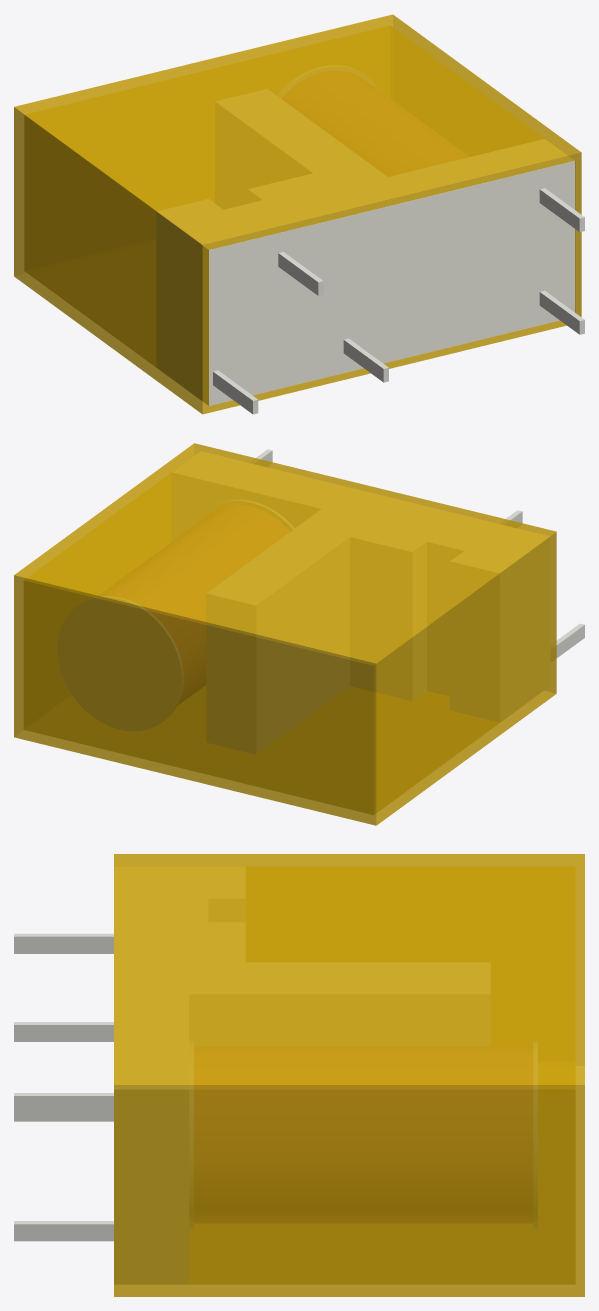
Rendered from Relay_SPDT_Finder_40.51.glb.
3 renders of one model, top to bottom at view 1: azimuth 30°, elevation 25°; view 2: azimuth 150°, elevation 25°; view 3: azimuth 270°, elevation 25°, orthographic. The views are drawn at different scales.
Visible parts, largest first — view 1: Shape_IndexedFaceSet.008, Shape_IndexedFaceSet.011, Shape_IndexedFaceSet.027, Shape_IndexedFaceSet.005, Shape_IndexedFaceSet.012, Shape_IndexedFaceSet.024, Shape_IndexedFaceSet.017, Shape_IndexedFaceSet.028, Shape_IndexedFaceSet.009, Shape_IndexedFaceSet, Shape_IndexedFaceSet.034, Shape_IndexedFaceSet.006 (+8 smaller); view 2: Shape_IndexedFaceSet.008, Shape_IndexedFaceSet.011, Shape_IndexedFaceSet, Shape_IndexedFaceSet.014, Shape_IndexedFaceSet.005, Shape_IndexedFaceSet.012, Shape_IndexedFaceSet.024, Shape_IndexedFaceSet.034, Shape_IndexedFaceSet.018, Shape_IndexedFaceSet.017, Shape_IndexedFaceSet.033, Shape_IndexedFaceSet.029 (+12 smaller); view 3: Shape_IndexedFaceSet.008, Shape_IndexedFaceSet.011, Shape_IndexedFaceSet.007, Shape_IndexedFaceSet.010, Shape_IndexedFaceSet.017, Shape_IndexedFaceSet.024, Shape_IndexedFaceSet.022, Shape_IndexedFaceSet.025, Shape_IndexedFaceSet.005, Shape_IndexedFaceSet.006, Shape_IndexedFaceSet.004, Shape_IndexedFaceSet.003 (+10 smaller).
Boxes of the visible parts, x1=… form: Shape_IndexedFaceSet.008: x1=18, y1=17, x2=581, y2=244; Shape_IndexedFaceSet.011: x1=25, y1=26, x2=574, y2=249; Shape_IndexedFaceSet.027: x1=209, y1=161, x2=574, y2=405; Shape_IndexedFaceSet.005: x1=17, y1=110, x2=202, y2=413; Shape_IndexedFaceSet.012: x1=24, y1=116, x2=208, y2=405; Shape_IndexedFaceSet.024: x1=158, y1=89, x2=573, y2=249; Shape_IndexedFaceSet.017: x1=282, y1=71, x2=468, y2=176; Shape_IndexedFaceSet.028: x1=157, y1=213, x2=208, y2=404; Shape_IndexedFaceSet.009: x1=202, y1=153, x2=581, y2=414; Shape_IndexedFaceSet: x1=14, y1=15, x2=392, y2=275; Shape_IndexedFaceSet.034: x1=215, y1=102, x2=310, y2=208; Shape_IndexedFaceSet.006: x1=18, y1=276, x2=565, y2=413; Shape_IndexedFaceSet.008: x1=18, y1=443, x2=555, y2=660; Shape_IndexedFaceSet.011: x1=24, y1=451, x2=549, y2=665; Shape_IndexedFaceSet: x1=14, y1=575, x2=376, y2=825; Shape_IndexedFaceSet.014: x1=24, y1=581, x2=373, y2=814; Shape_IndexedFaceSet.005: x1=380, y1=532, x2=556, y2=822; Shape_IndexedFaceSet.012: x1=374, y1=537, x2=550, y2=814; Shape_IndexedFaceSet.024: x1=174, y1=452, x2=548, y2=604; Shape_IndexedFaceSet.034: x1=257, y1=538, x2=349, y2=752; Shape_IndexedFaceSet.018: x1=57, y1=598, x2=181, y2=730; Shape_IndexedFaceSet.017: x1=100, y1=505, x2=288, y2=704; Shape_IndexedFaceSet.033: x1=350, y1=538, x2=411, y2=700; Shape_IndexedFaceSet.029: x1=450, y1=562, x2=499, y2=721; Shape_IndexedFaceSet.008: x1=114, y1=854, x2=575, y2=1084; Shape_IndexedFaceSet.011: x1=114, y1=866, x2=575, y2=1089; Shape_IndexedFaceSet.007: x1=114, y1=1085, x2=575, y2=1296; Shape_IndexedFaceSet.010: x1=114, y1=1090, x2=575, y2=1284; Shape_IndexedFaceSet.017: x1=194, y1=1047, x2=532, y2=1222; Shape_IndexedFaceSet.024: x1=114, y1=867, x2=489, y2=1088; Shape_IndexedFaceSet.022: x1=190, y1=994, x2=489, y2=1045; Shape_IndexedFaceSet.025: x1=114, y1=1090, x2=188, y2=1283; Shape_IndexedFaceSet.005: x1=114, y1=854, x2=575, y2=865; Shape_IndexedFaceSet.006: x1=114, y1=1285, x2=575, y2=1296; Shape_IndexedFaceSet.004: x1=575, y1=854, x2=584, y2=1084; Shape_IndexedFaceSet.003: x1=575, y1=1085, x2=584, y2=1296.
Bounding box in the file's own units: 11.42 × 4.88 × 11.93.
